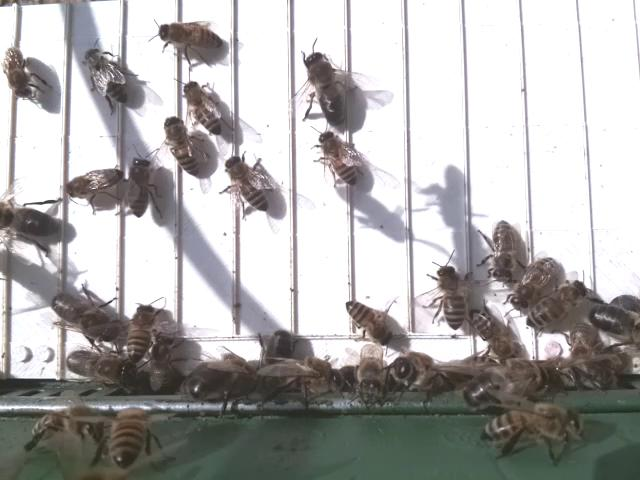Drone: (300, 46, 352, 130), (47, 287, 121, 342), (0, 198, 66, 245), (62, 347, 137, 387), (586, 299, 640, 342)
Worker: (221, 151, 275, 217), (523, 280, 588, 333), (82, 43, 129, 109), (314, 127, 362, 191), (466, 304, 517, 363), (510, 255, 560, 312), (181, 77, 228, 136), (432, 260, 469, 332), (161, 112, 201, 178), (342, 295, 392, 347), (157, 19, 228, 55), (123, 299, 158, 364), (487, 216, 519, 286), (61, 166, 124, 200), (1, 45, 36, 102), (126, 154, 155, 222)
